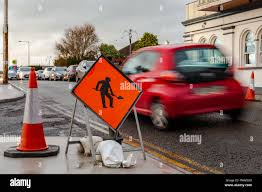car: (114, 44, 247, 131), (76, 60, 100, 84), (50, 67, 68, 80), (65, 65, 79, 81)
cone: (21, 67, 49, 155), (246, 70, 256, 102)
